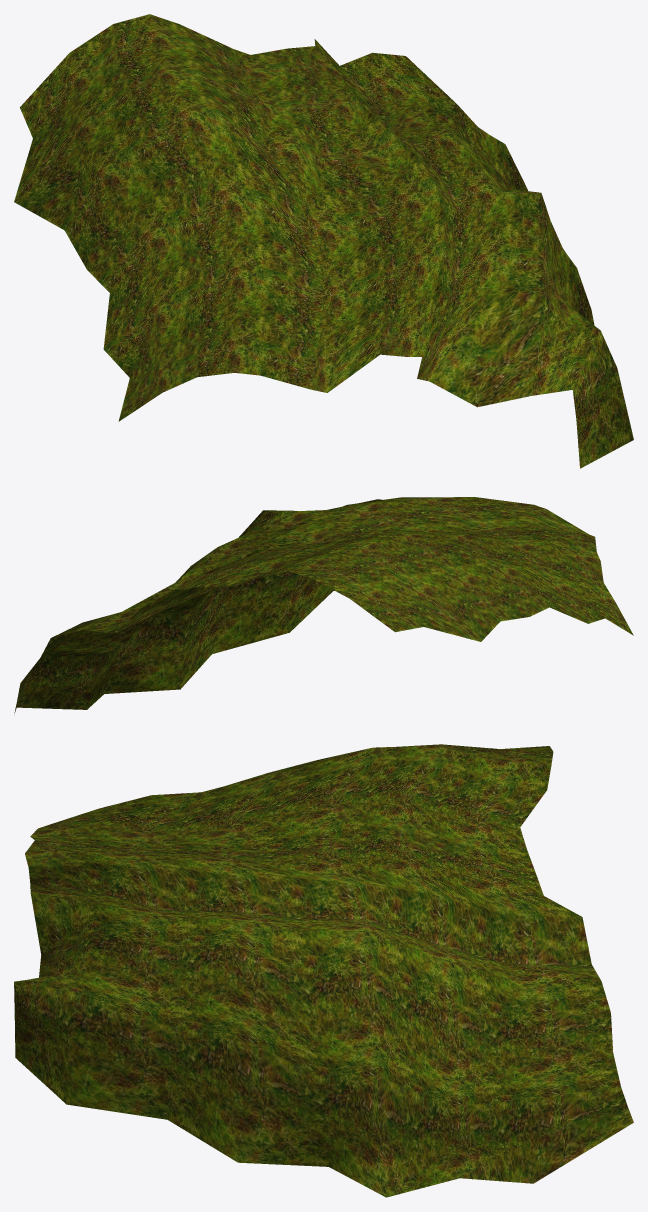
File: TROLLHOLE02_ZOBJECT43.fbx
The picture shows the model from 3 angles, top to bottom: view 1: azimuth 30°, elevation 25°; view 2: azimuth 150°, elevation 25°; view 3: azimuth 270°, elevation 25°; orthographic projection. The views are drawn at different scales.
Parts seen in each view (by area): view 1: TROLLHOLE02_ZOBJECT43; view 2: TROLLHOLE02_ZOBJECT43; view 3: TROLLHOLE02_ZOBJECT43.
Part boxes in pixels (x1,y1,x2,y2): TROLLHOLE02_ZOBJECT43: (14, 14, 633, 468); TROLLHOLE02_ZOBJECT43: (14, 497, 633, 713); TROLLHOLE02_ZOBJECT43: (14, 744, 633, 1197).
Size of the model in its own units: 306695 by 148389 by 293991.
Materials: 1 (1 with a texture image).
